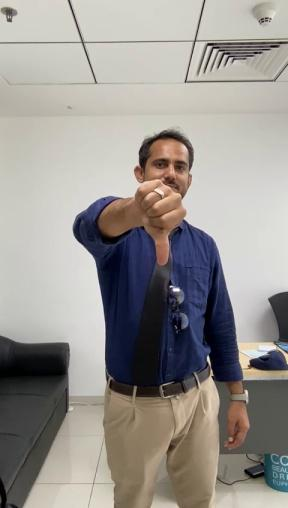thumbs-down: (135, 178, 189, 267)
